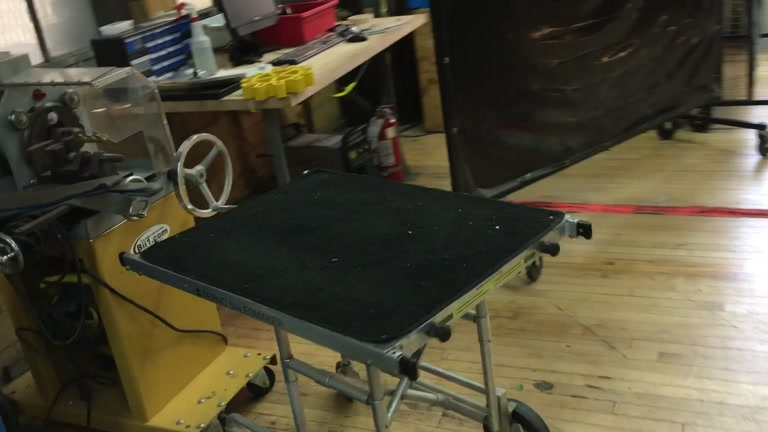gear: (239, 63, 314, 101)
